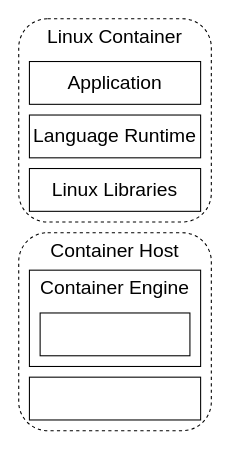
Some shapes in this 230 by 449 pixel diagram are drawn without their labels. The shapes that lost their labels are listed below. From the top down, each one's centre as x and y in pixels, then its label:
At point 114,334: "Container Runtime".
At point 114,398: "Linux Kernel".
